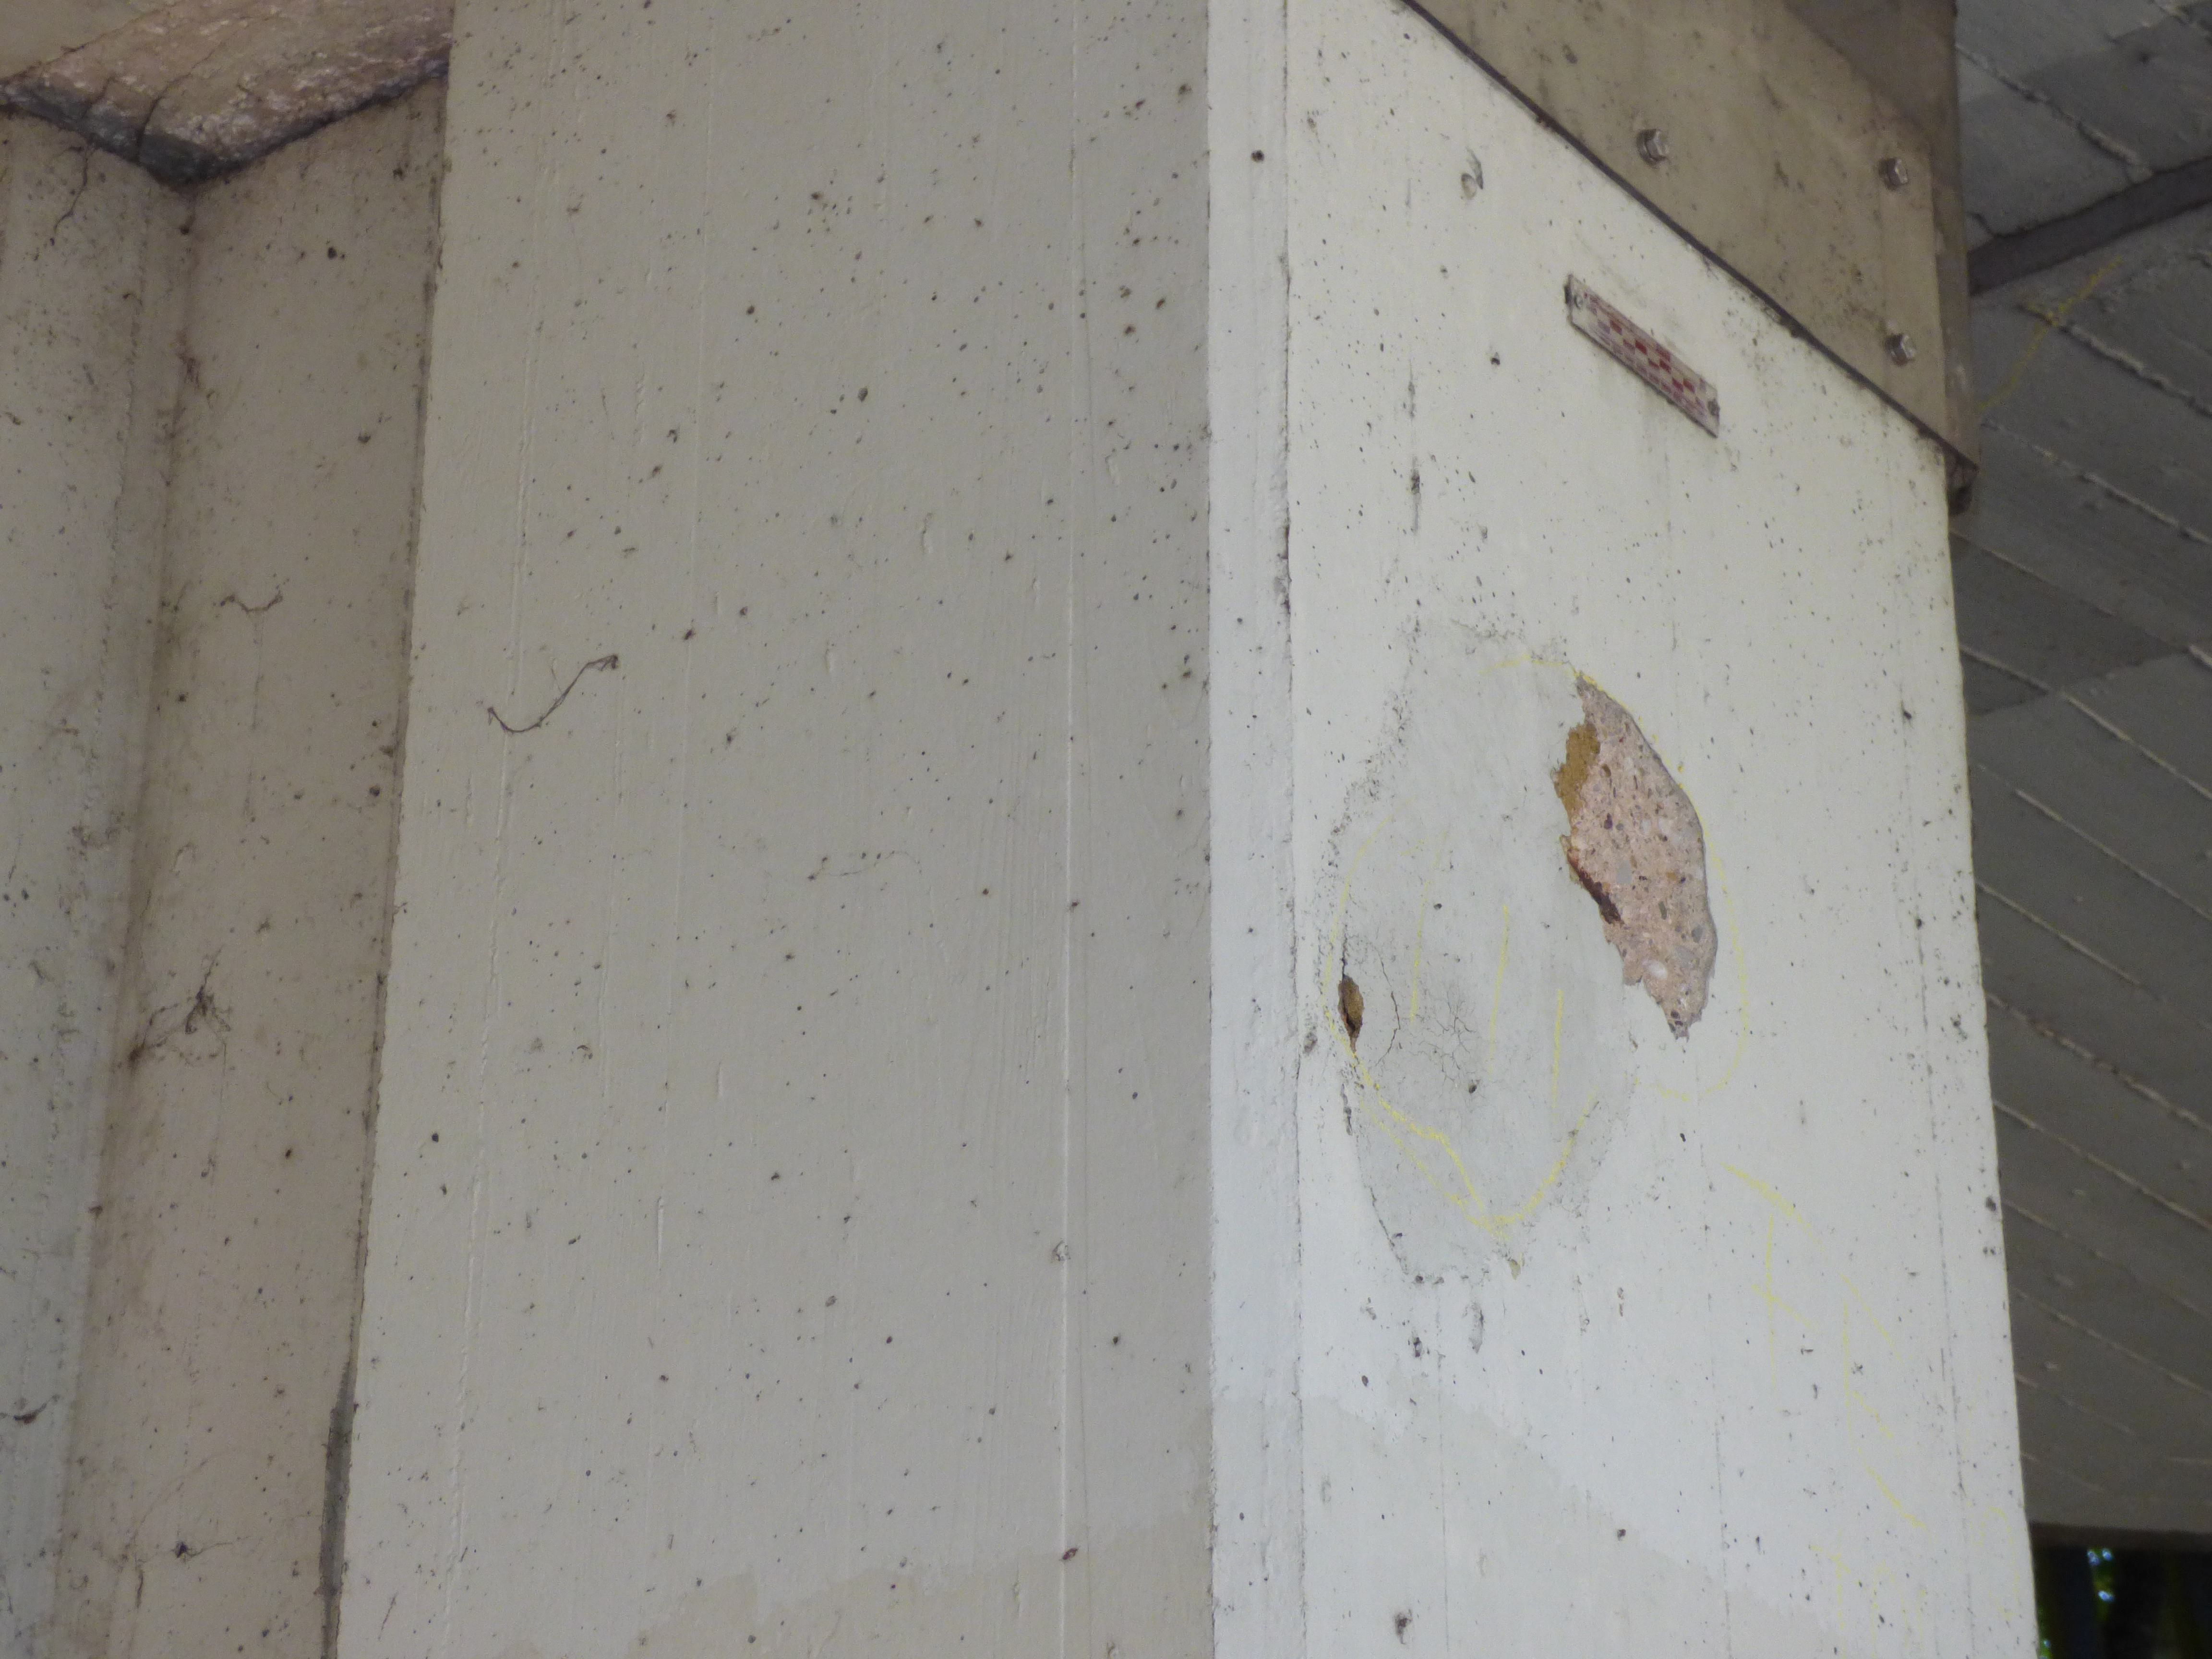Corrosion: (1338, 974, 1364, 1053)
Exposed reinforcement: (1564, 854, 1622, 925)
Spalling: (1550, 671, 1717, 1040)
